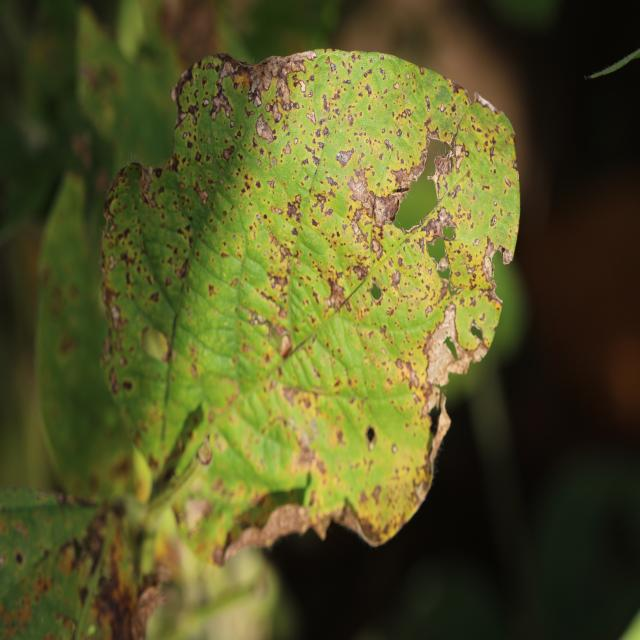Bacterial_Blight: (72, 505, 145, 639), (338, 155, 398, 251), (414, 397, 454, 516), (242, 48, 312, 107), (271, 406, 328, 473), (239, 504, 313, 554), (106, 160, 154, 212), (169, 61, 199, 142), (478, 235, 512, 306), (354, 506, 403, 544), (101, 279, 128, 344), (183, 495, 211, 532), (394, 356, 421, 391), (266, 320, 293, 353), (72, 131, 94, 170), (209, 89, 234, 122), (325, 277, 347, 309), (215, 58, 239, 85), (473, 91, 500, 114), (389, 166, 410, 189), (452, 142, 468, 172), (269, 270, 289, 293), (196, 440, 213, 465), (108, 366, 122, 395), (336, 148, 354, 167), (60, 334, 76, 355), (174, 258, 189, 280), (194, 185, 210, 205), (286, 199, 301, 219), (221, 146, 234, 163)
Soybean: (101, 49, 519, 564)
